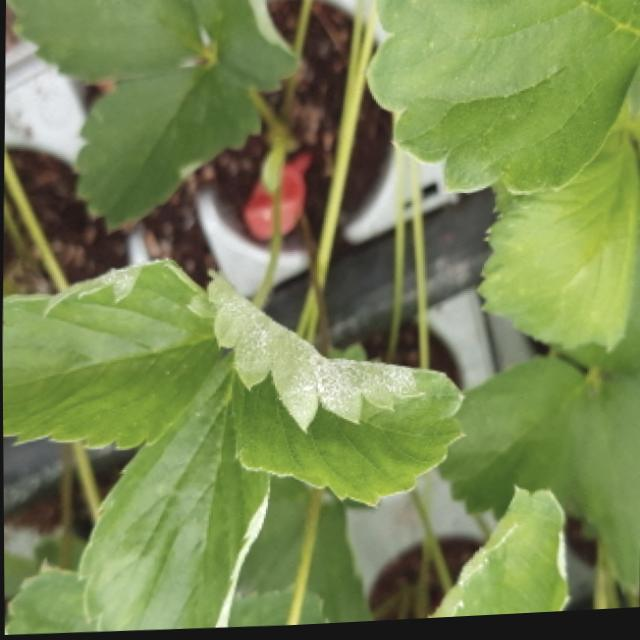Powdery Mildew Leaf: (204, 271, 469, 514), (364, 0, 640, 199), (74, 363, 269, 632), (2, 257, 230, 450), (424, 487, 567, 623)
